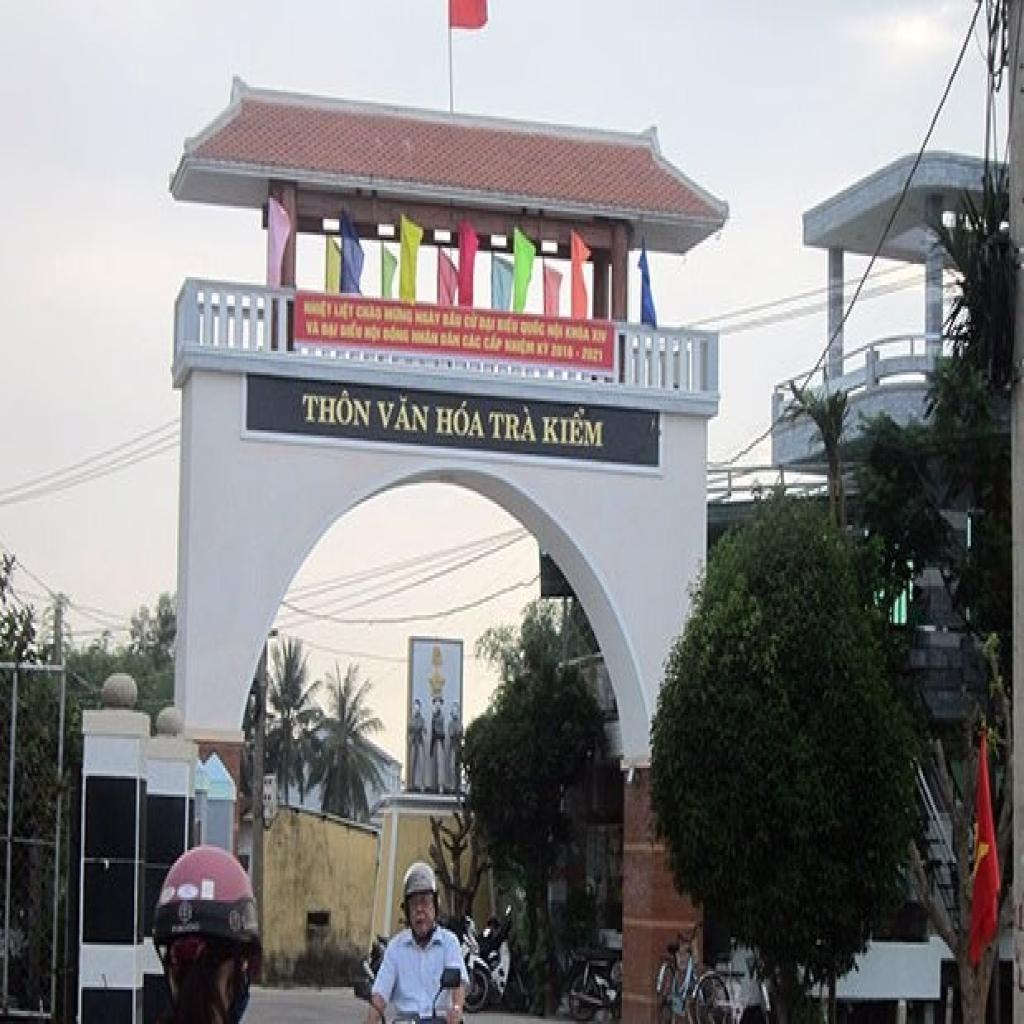text: (298, 385, 374, 433), (374, 390, 433, 440), (433, 396, 488, 443), (486, 401, 541, 446)
